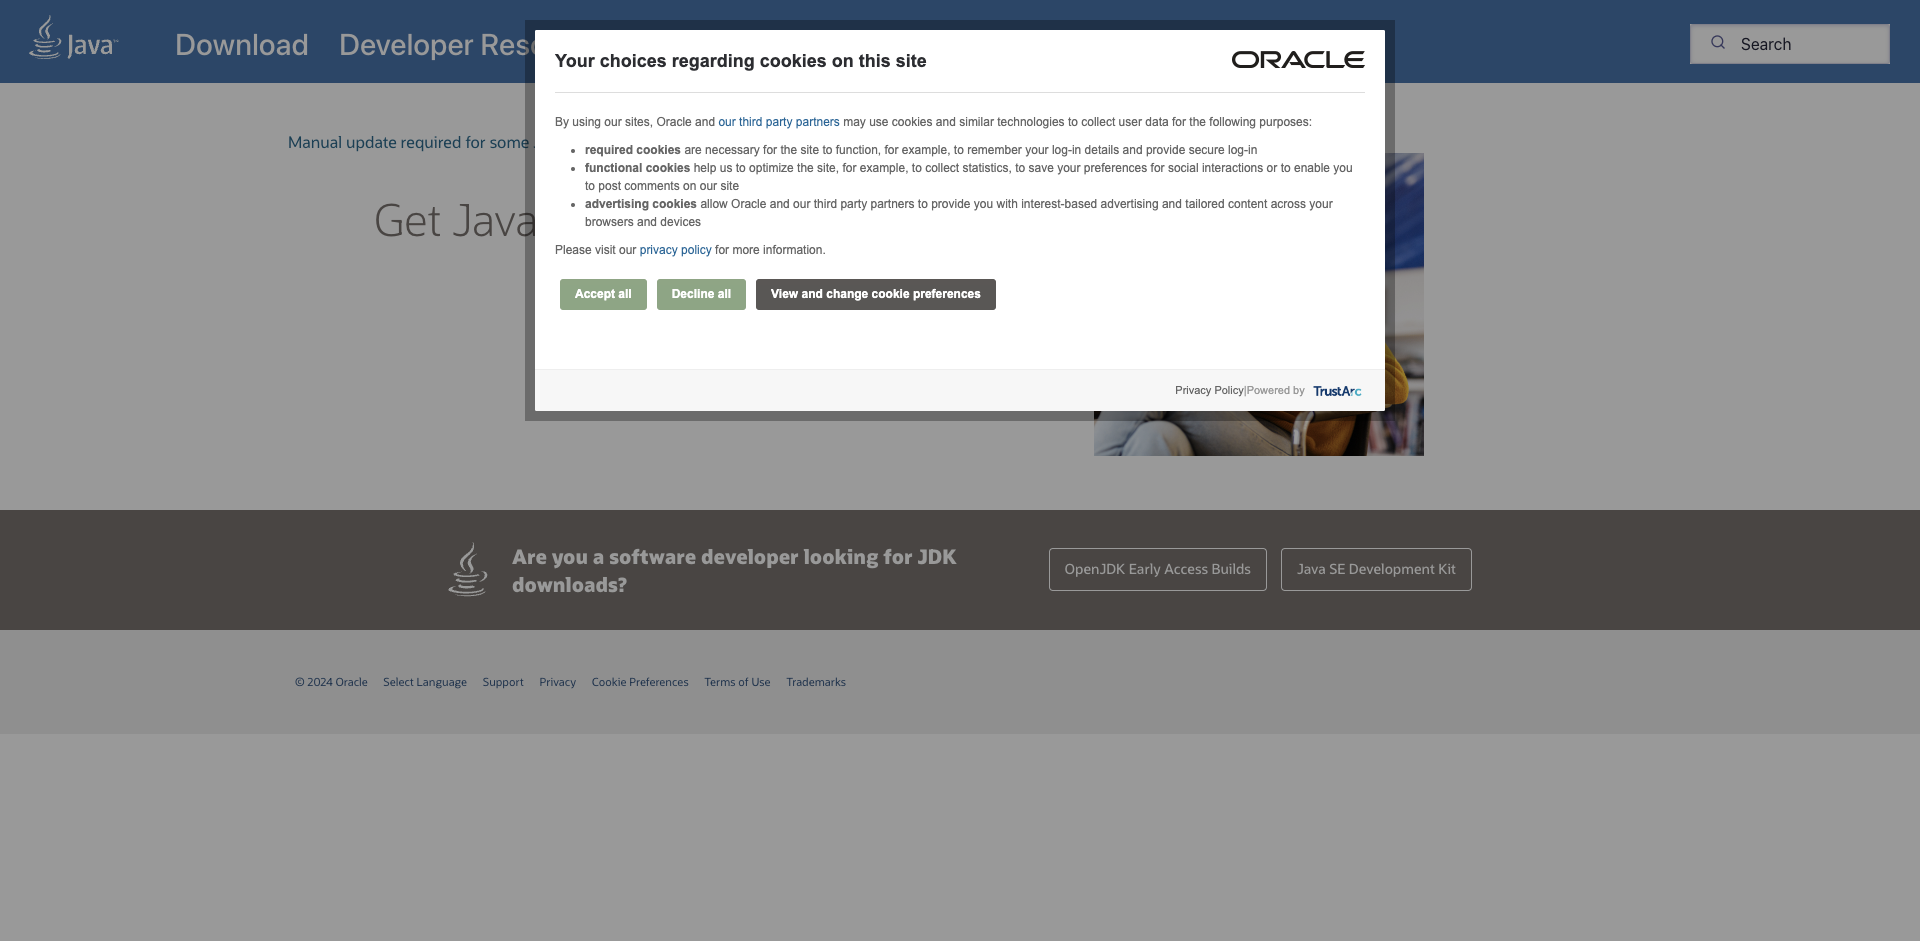input: (1690, 25, 1891, 64)
link: (334, 18, 624, 70), (579, 283, 803, 327), (1048, 548, 1267, 592), (15, 5, 140, 78), (288, 131, 700, 152), (1281, 548, 1472, 592), (170, 18, 313, 70), (694, 365, 814, 419), (568, 365, 687, 419), (645, 18, 718, 70), (288, 670, 377, 693), (585, 674, 698, 690), (377, 674, 476, 690), (698, 674, 780, 690), (780, 674, 855, 690), (476, 674, 533, 690), (533, 674, 585, 690)
